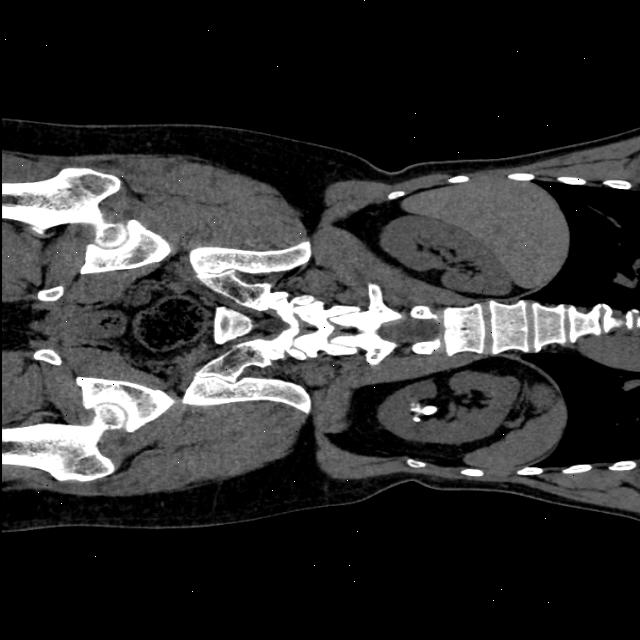kidneystone: (410, 402, 437, 415)
